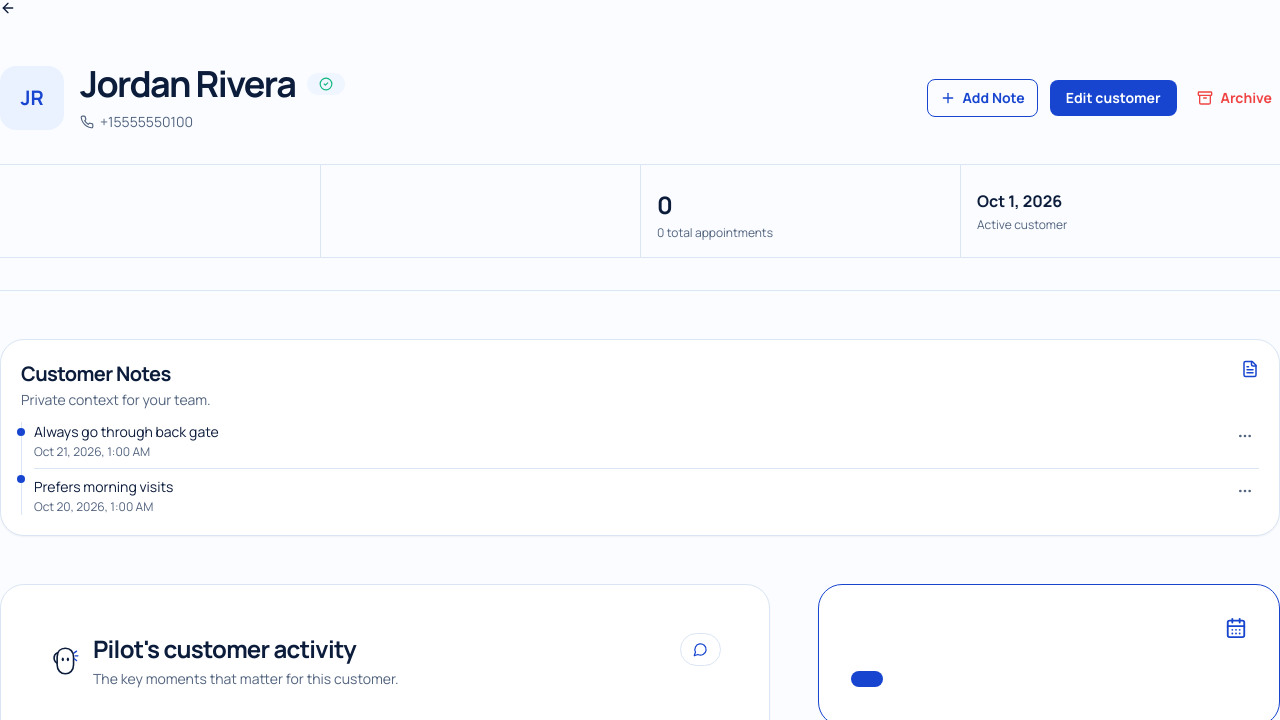
Customer profile notes › with existing notes › edits a note in the same dialog, pre-filled, and saves the new wording to that note only
Expected: the text "Prefers morning visits" is shown, [34, 477, 173, 497]
Click the button named "Note actions" in the row of "Prefers morning visits" at (1245, 491), box [1231, 477, 1259, 505]
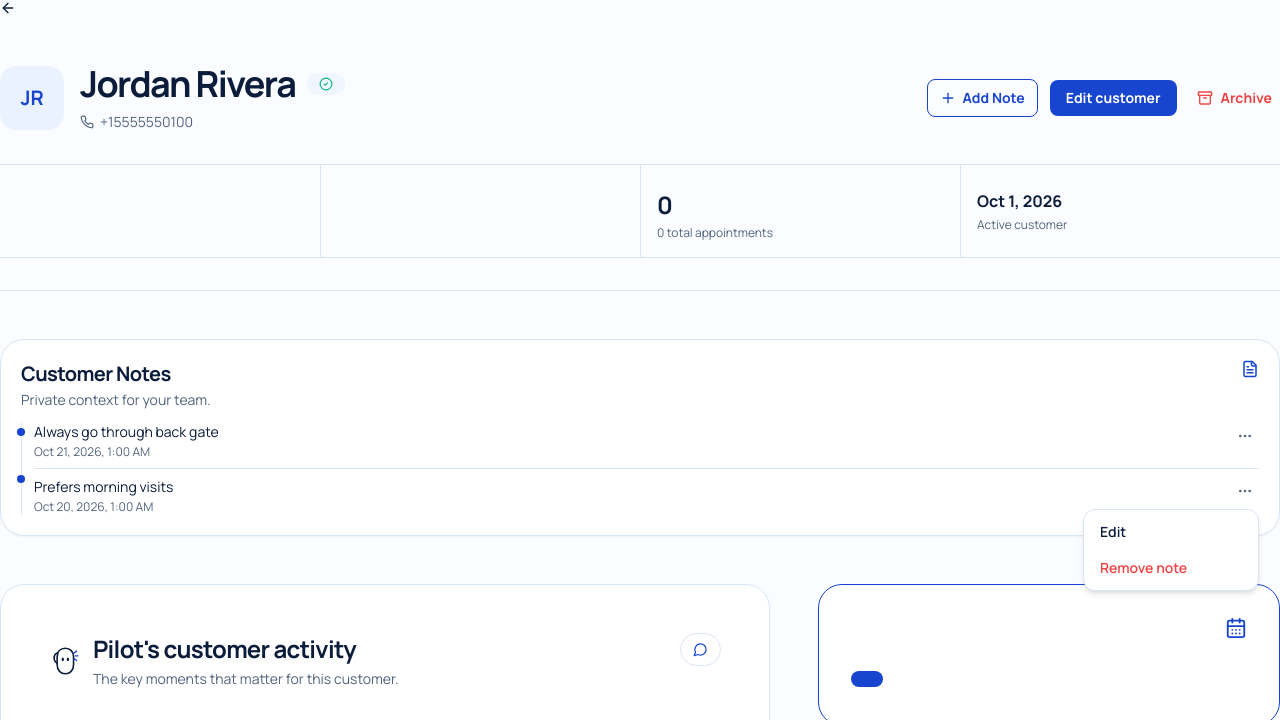
Click the menu item "Edit" at (1171, 532), box [1088, 514, 1254, 550]
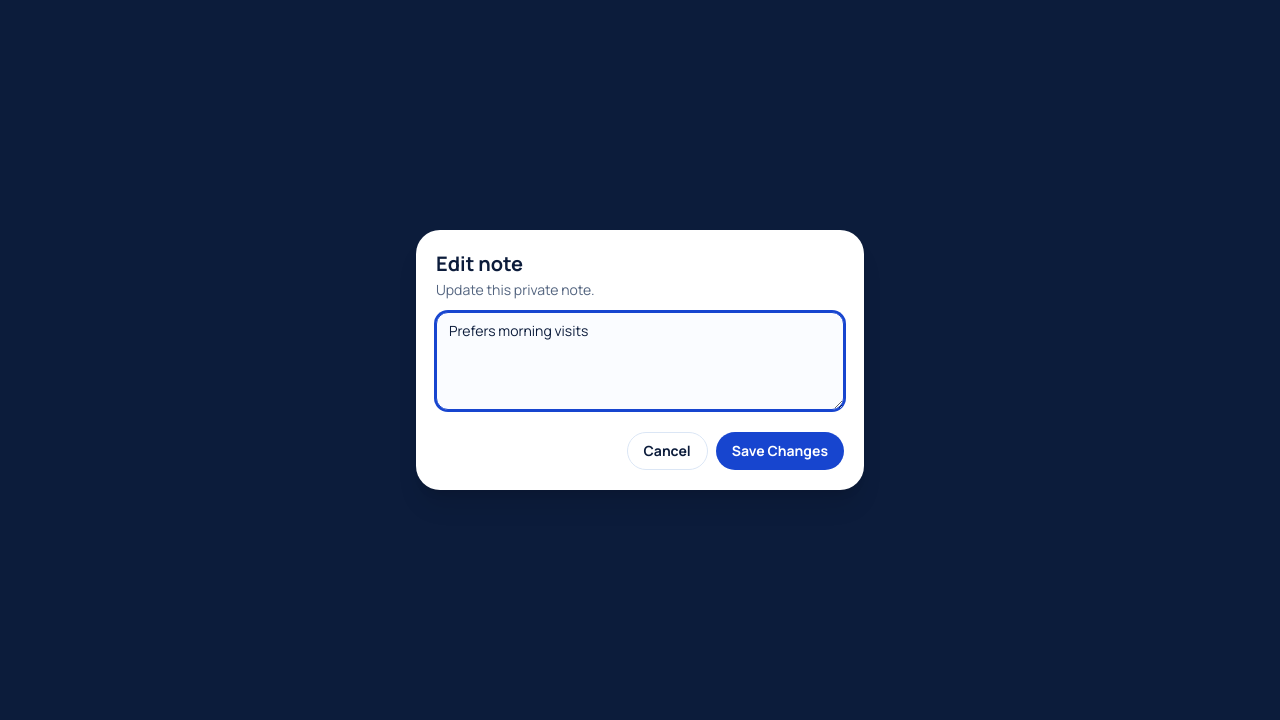
Expected: the text box holds "Prefers morning visits"
Replace the text in the text box with "Prefers early morning visits" at (640, 361), box [436, 312, 844, 410]
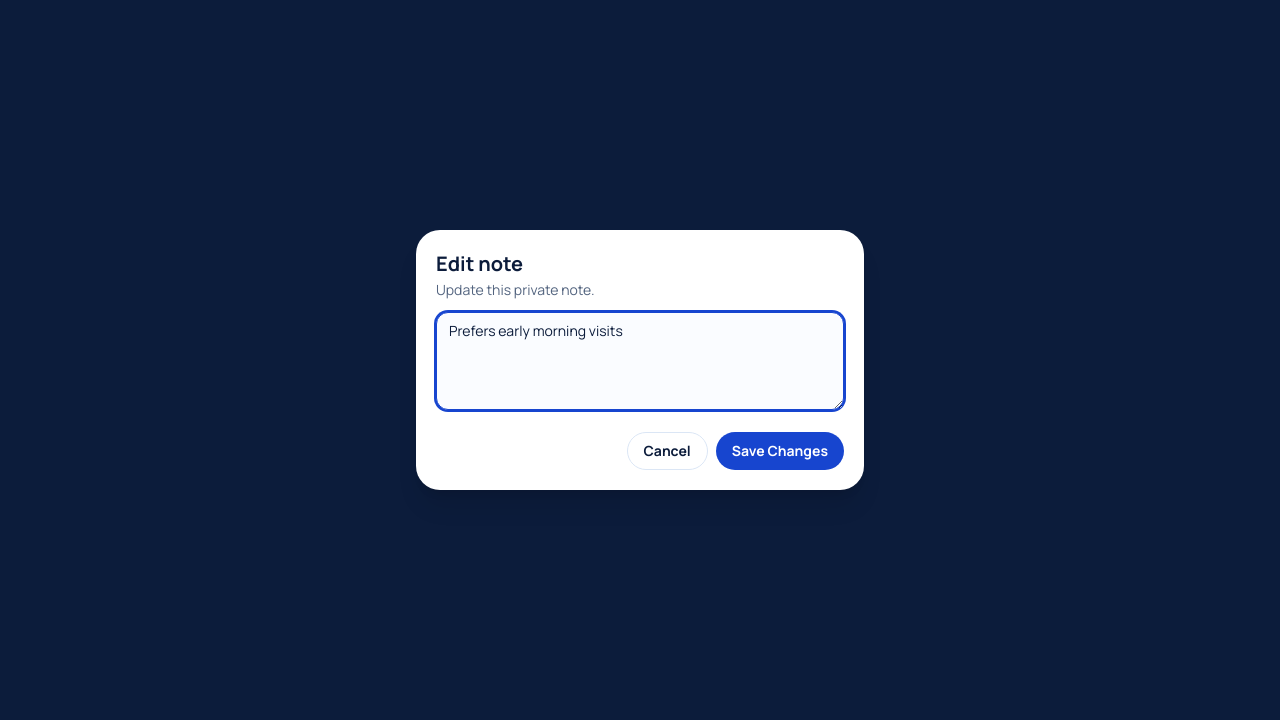
Click the button "Save Changes" at (780, 451), box [716, 432, 844, 470]
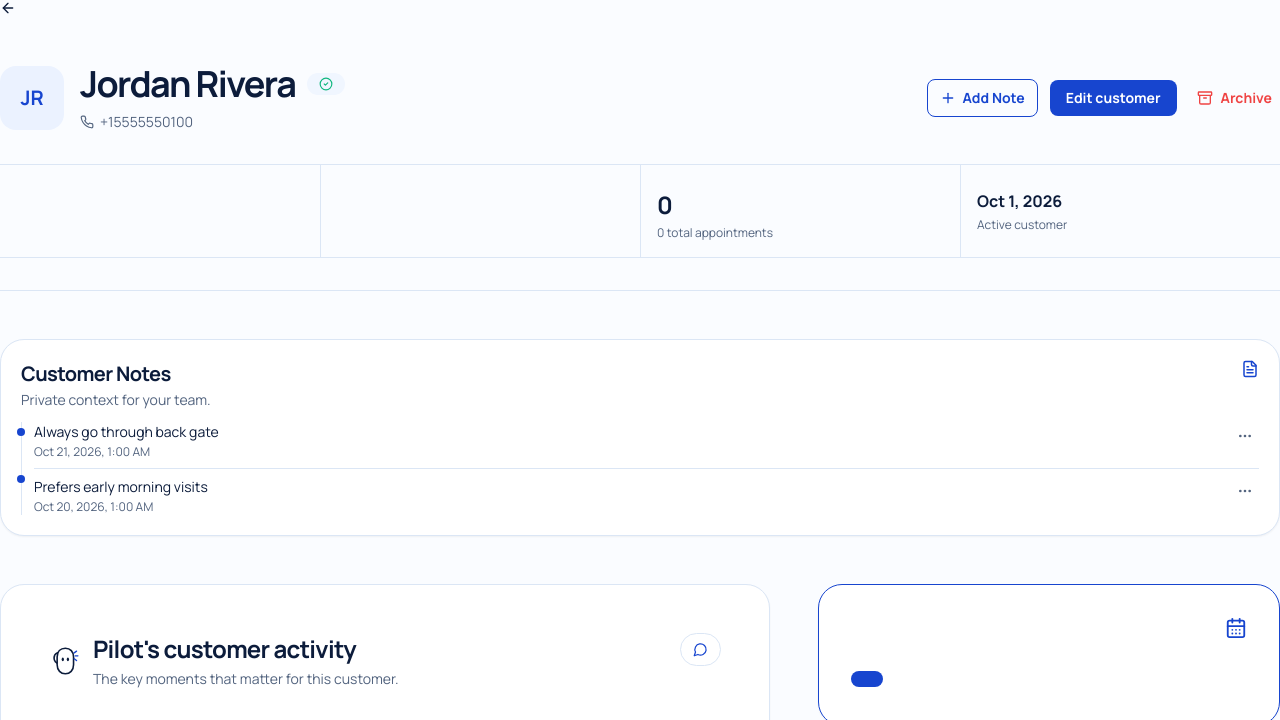
Expected: the text "Always go through back gate" is shown, [34, 422, 219, 442]
Expected: the text "Prefers early morning visits" is shown, [34, 477, 208, 497]
